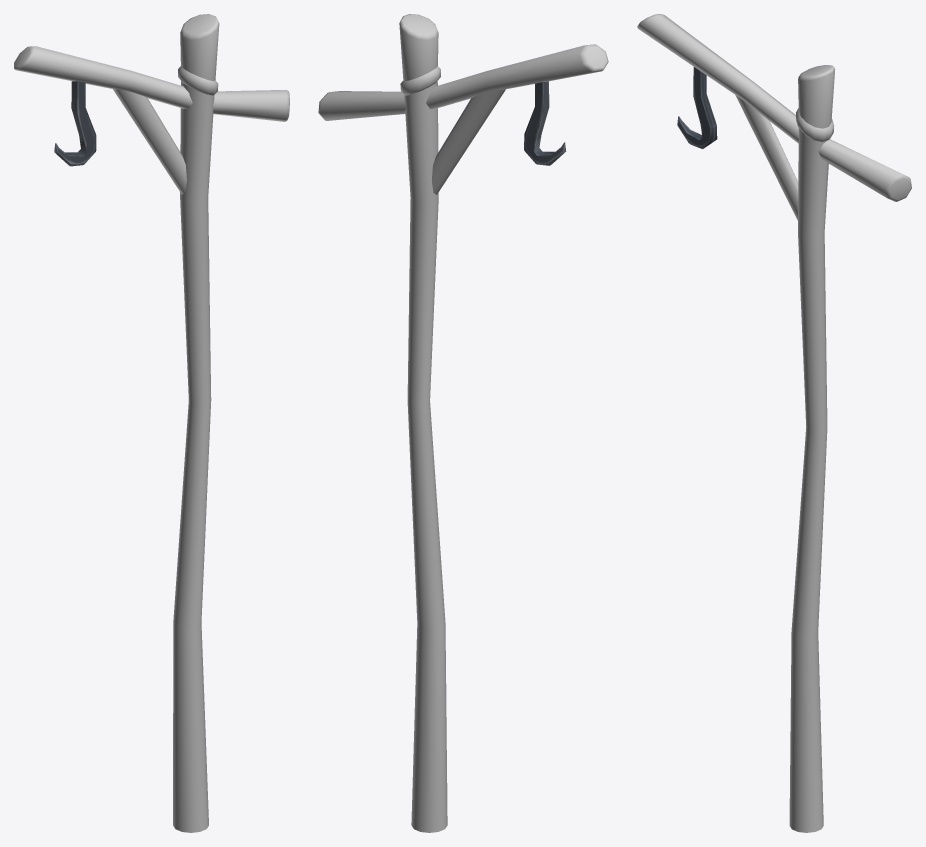
Rendered from SM_Lantern_Pole.gltf.
The picture shows the model from 3 angles, left to right: view 1: azimuth 30°, elevation 25°; view 2: azimuth 150°, elevation 25°; view 3: azimuth 330°, elevation 25°; orthographic projection. The views are drawn at different scales.
Parts seen in each view (by area): view 1: SM_Lantern_Pole_LOD0; view 2: SM_Lantern_Pole_LOD0; view 3: SM_Lantern_Pole_LOD0.
Part boxes in pixels (x1,y1,x2,y2): SM_Lantern_Pole_LOD0: [14, 14, 289, 832]; SM_Lantern_Pole_LOD0: [318, 14, 608, 832]; SM_Lantern_Pole_LOD0: [637, 14, 911, 832].
Size of what is drawn, in the model's own units: 0.9438 by 2.64 by 0.1261.
